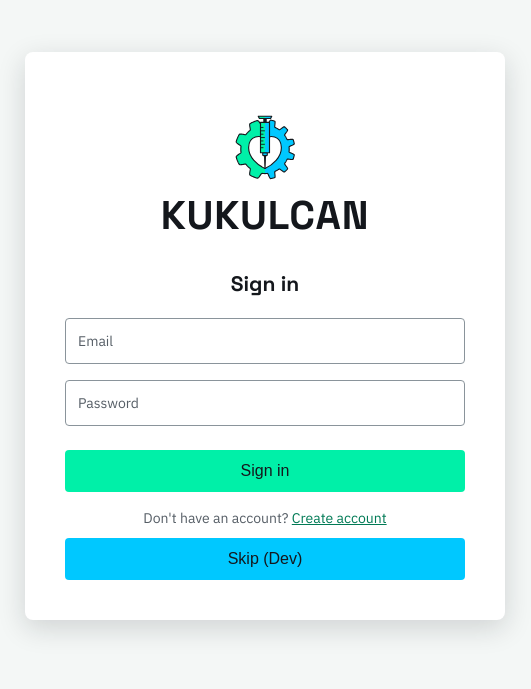
Test: Login › negative › other failures show the generic message
The width and height of the screenshot is (531, 689).
Type "a@b.c" into the field with placeholder "Email". click: (265, 341)
box: [65,318,465,364]
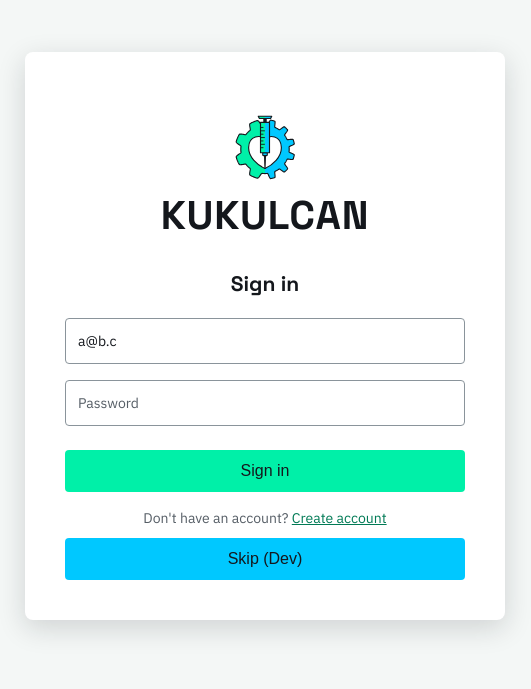
Type "pw" into the password field with placeholder "Password". click: (265, 403)
box: [65,380,465,426]
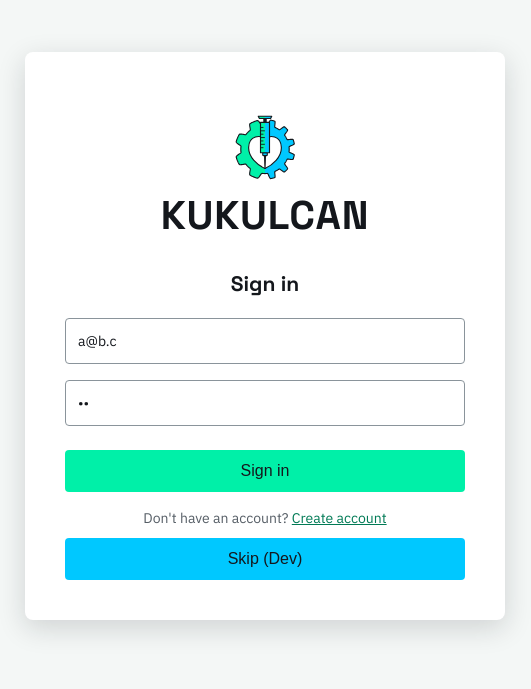
Click the button "Sign in". click: (265, 471)
box: [65,450,465,492]
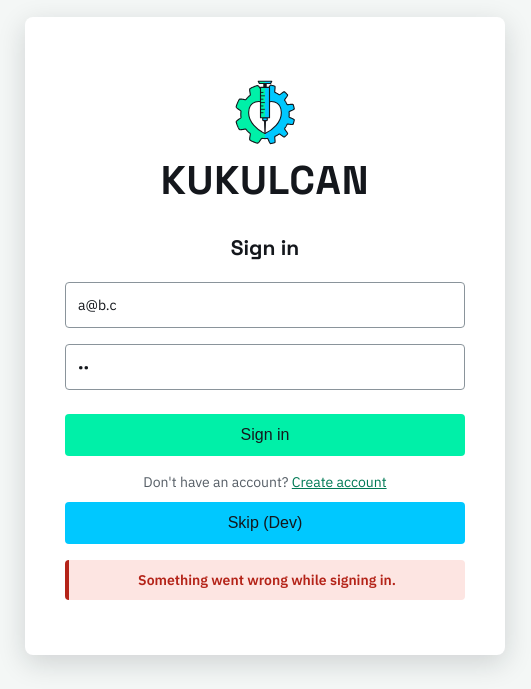
Now the text "Something went wrong while signing in." is shown, box [65,560,465,600]
